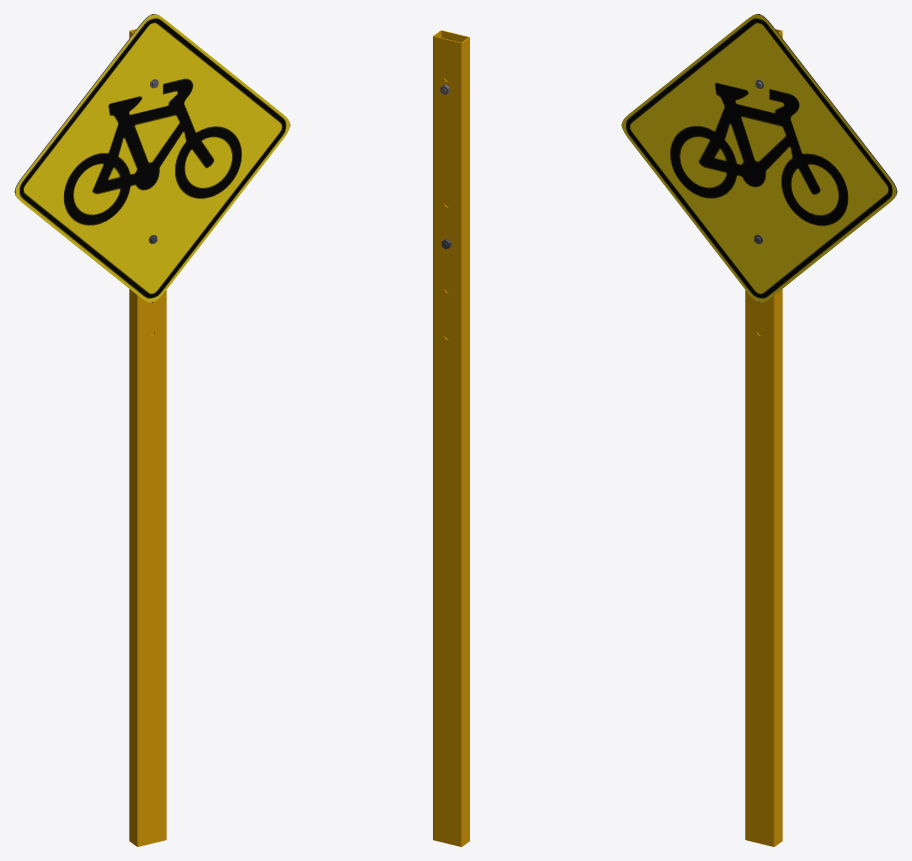
The model's file is Bike Warning Road Sign.glb.
3 views of the same model, side by side, from view 1: azimuth 30°, elevation 25°; view 2: azimuth 150°, elevation 25°; view 3: azimuth 330°, elevation 25° (orthographic).
Visible parts, largest first — view 1: Grid, Cube; view 2: Cube; view 3: Grid, Cube.
Boxes of the visible parts, x1,y1,x2,y2 form: Grid: (15, 14, 290, 302); Cube: (129, 29, 166, 846); Cube: (433, 30, 469, 846); Grid: (621, 14, 896, 302); Cube: (745, 29, 782, 846).
Size of the model in its own units: 0.9433 by 2.72 by 0.0813.
4 materials, 1 textured.
